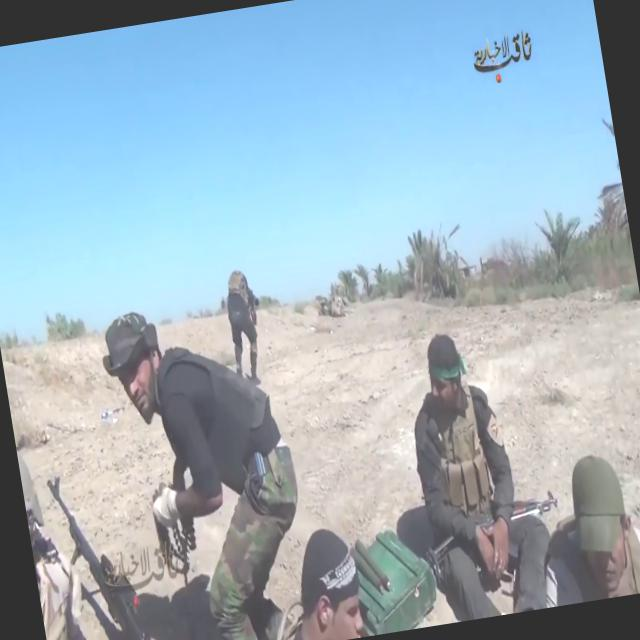long weapon: (39, 460, 170, 639), (422, 487, 580, 588)
